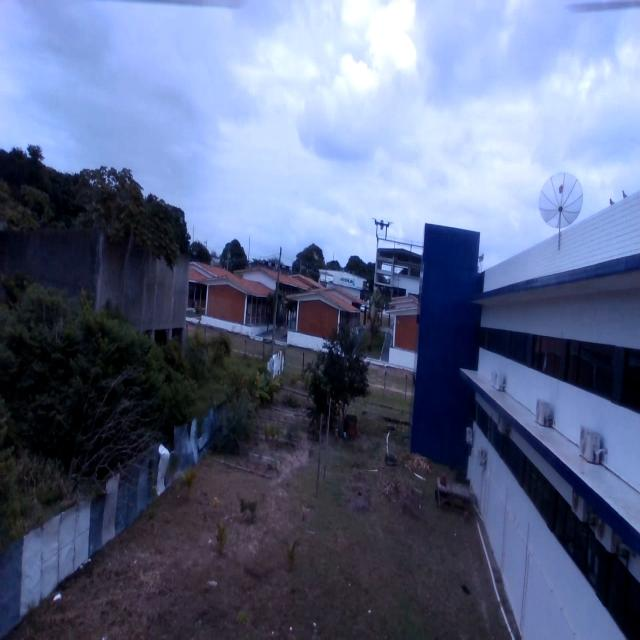-uav-: (368, 206, 397, 247)
